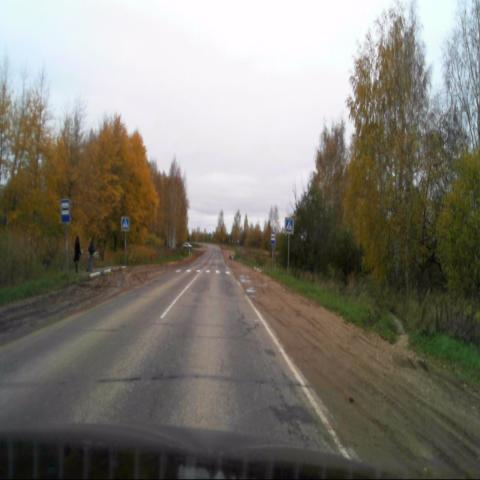5_16: (60, 199, 70, 223)
5_19_1: (284, 217, 294, 235), (121, 216, 129, 231)
